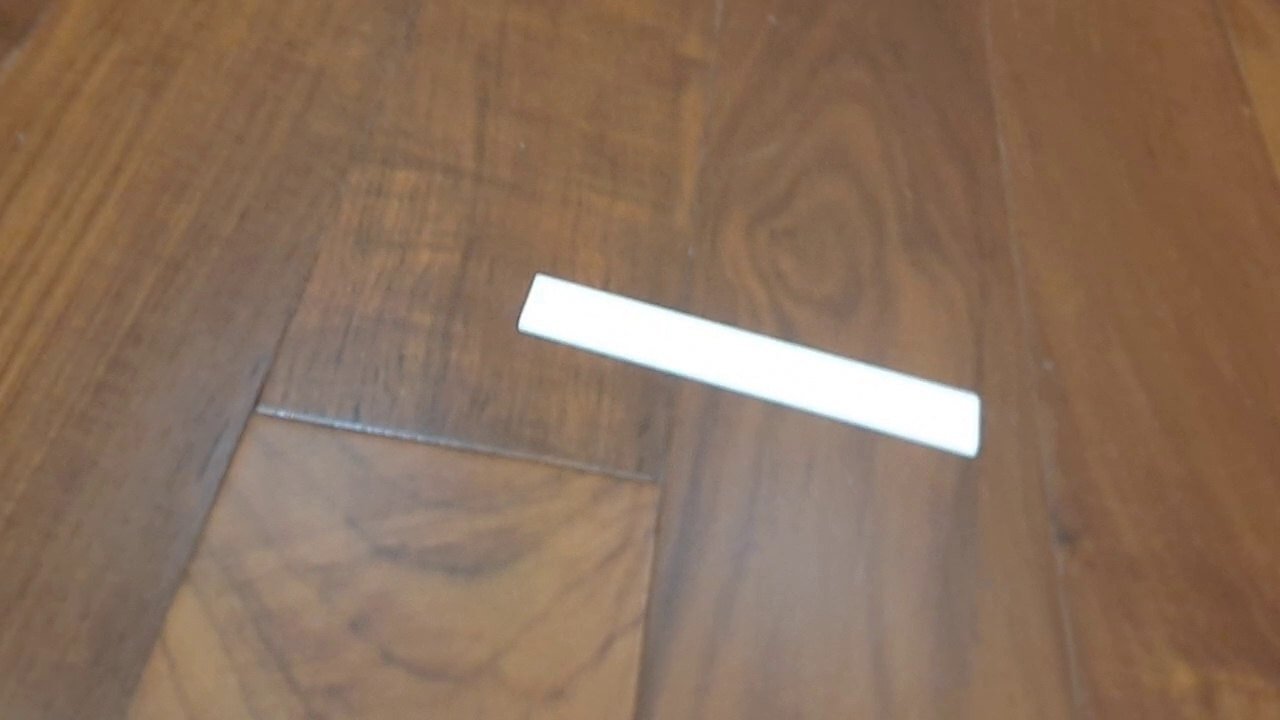ruler: (515, 270, 982, 462)
